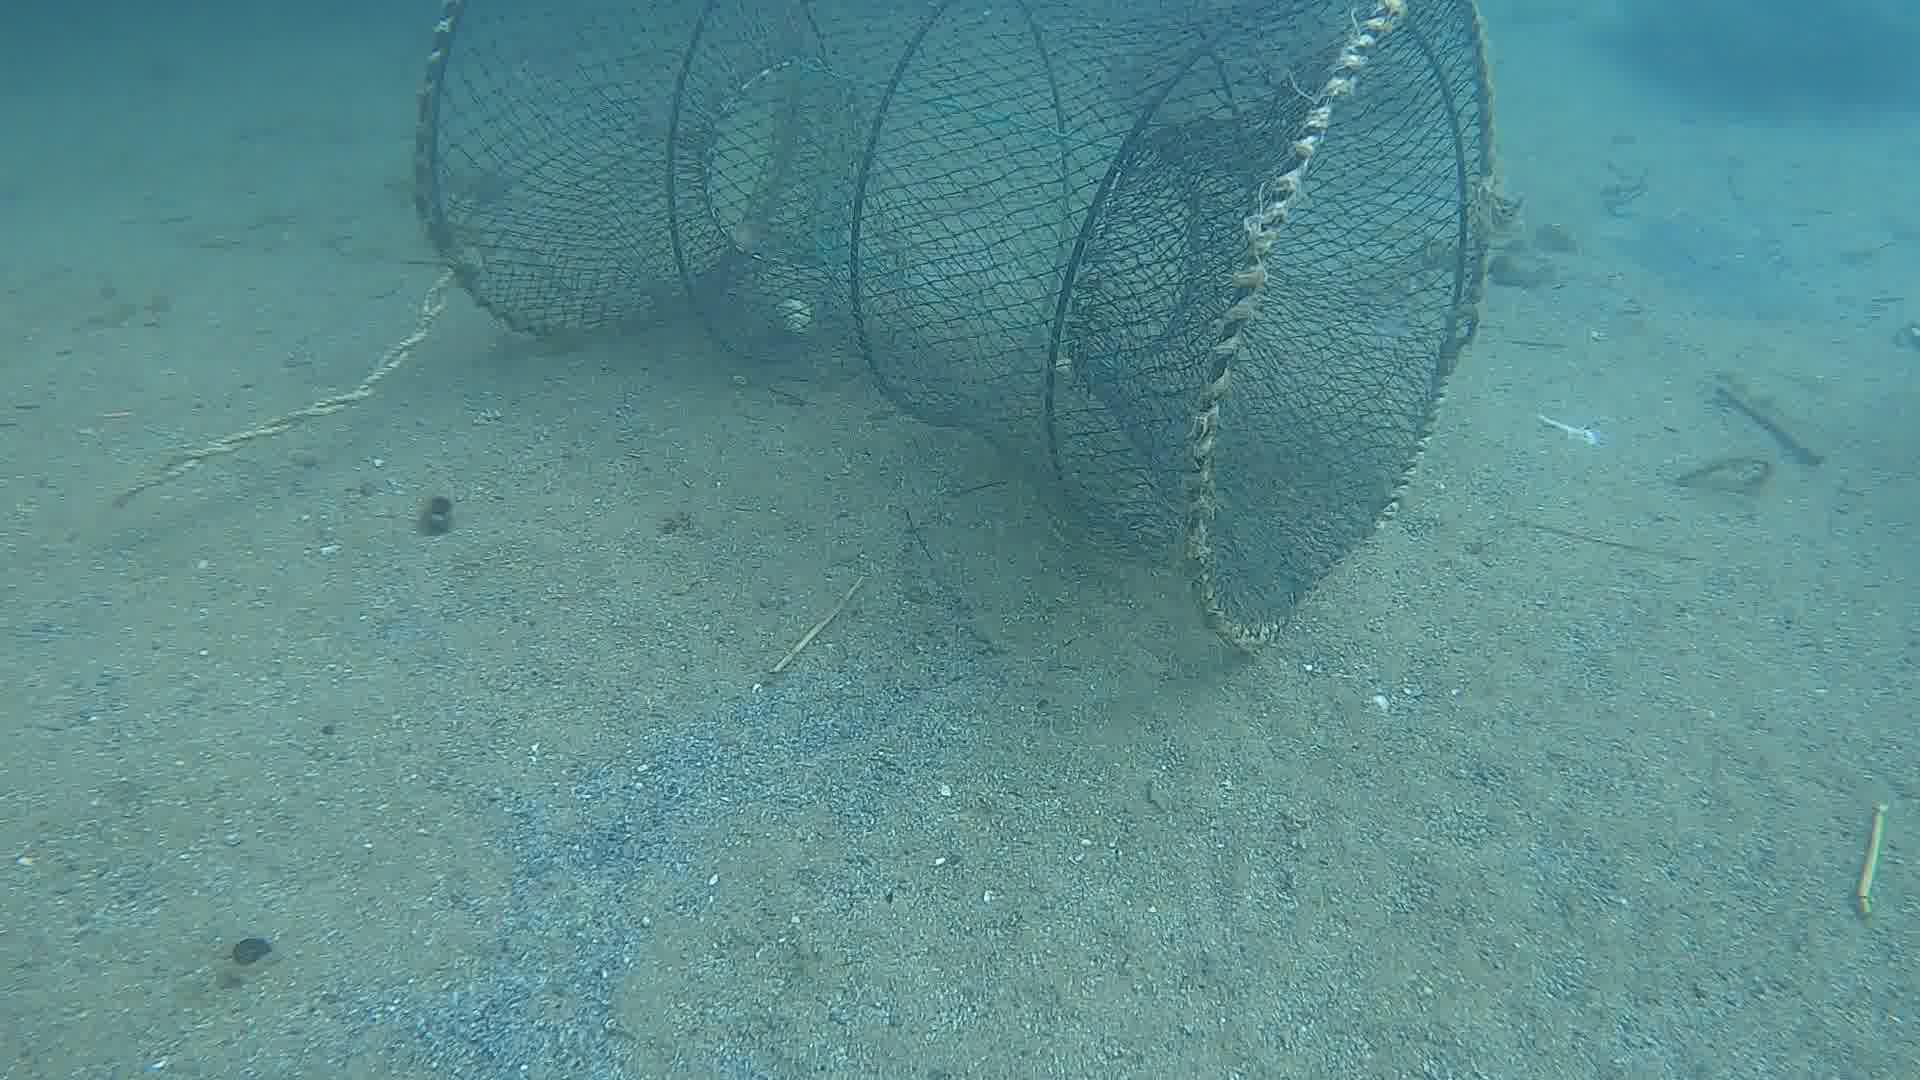bundle of ropes: (98, 280, 452, 512)
spring fish trap: (410, 0, 1501, 651)
